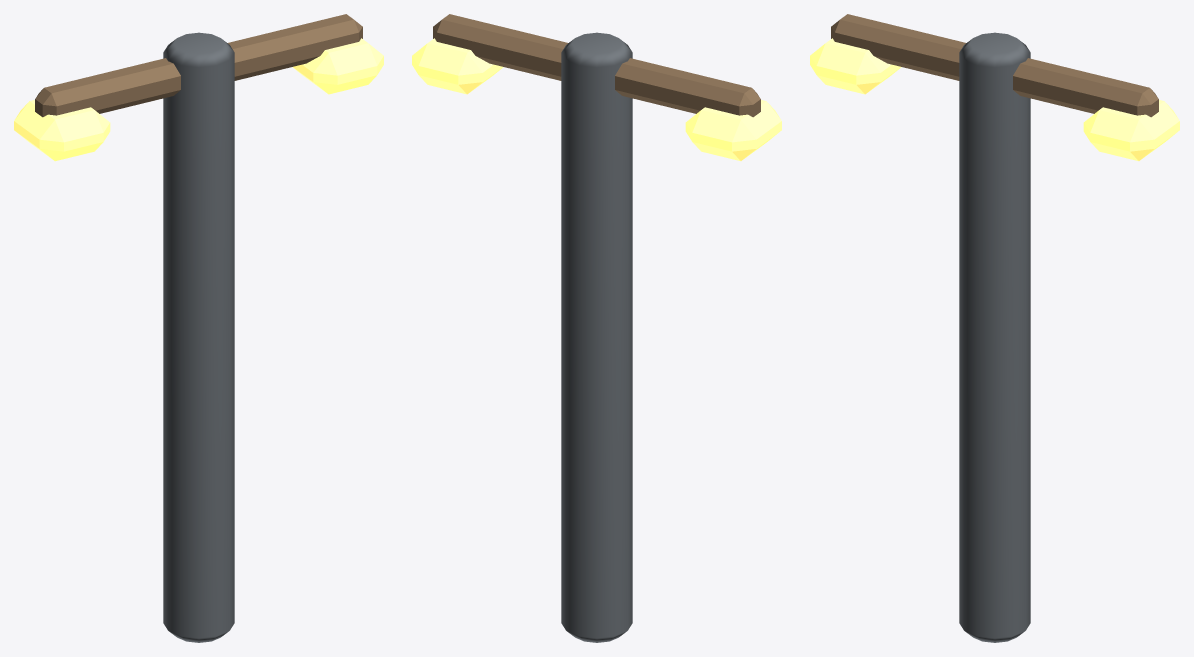
File: ped_light_double_lod2_v2.glb
3 renders of one model, left to right at view 1: azimuth 30°, elevation 25°; view 2: azimuth 150°, elevation 25°; view 3: azimuth 330°, elevation 25°, orthographic.
Parts seen in each view (by area): view 1: LOD2_PED_LIGHT_DOUBLE_Post, LOD2_PED_LIGHT_DOUBLE_Arm, LOD2_PED_LIGHT_DOUBLE_Glow, LOD2_PED_LIGHT_DOUBLE_Glow.001; view 2: LOD2_PED_LIGHT_DOUBLE_Post, LOD2_PED_LIGHT_DOUBLE_Arm, LOD2_PED_LIGHT_DOUBLE_Glow, LOD2_PED_LIGHT_DOUBLE_Glow.001; view 3: LOD2_PED_LIGHT_DOUBLE_Post, LOD2_PED_LIGHT_DOUBLE_Arm, LOD2_PED_LIGHT_DOUBLE_Glow.001, LOD2_PED_LIGHT_DOUBLE_Glow.
Part boxes in pixels (left/top/right/bottom): LOD2_PED_LIGHT_DOUBLE_Post: left=163, top=32, right=234, bottom=642; LOD2_PED_LIGHT_DOUBLE_Arm: left=35, top=14, right=362, bottom=117; LOD2_PED_LIGHT_DOUBLE_Glow: left=14, top=100, right=110, bottom=161; LOD2_PED_LIGHT_DOUBLE_Glow.001: left=292, top=38, right=383, bottom=94; LOD2_PED_LIGHT_DOUBLE_Post: left=561, top=32, right=632, bottom=642; LOD2_PED_LIGHT_DOUBLE_Arm: left=433, top=14, right=760, bottom=117; LOD2_PED_LIGHT_DOUBLE_Glow: left=685, top=100, right=781, bottom=161; LOD2_PED_LIGHT_DOUBLE_Glow.001: left=412, top=38, right=503, bottom=94; LOD2_PED_LIGHT_DOUBLE_Post: left=959, top=32, right=1030, bottom=642; LOD2_PED_LIGHT_DOUBLE_Arm: left=831, top=14, right=1158, bottom=117; LOD2_PED_LIGHT_DOUBLE_Glow.001: left=1083, top=100, right=1179, bottom=161; LOD2_PED_LIGHT_DOUBLE_Glow: left=810, top=38, right=901, bottom=94.
Size of what is drawn, in the model's own units: 1.56 by 2.55 by 0.34.
